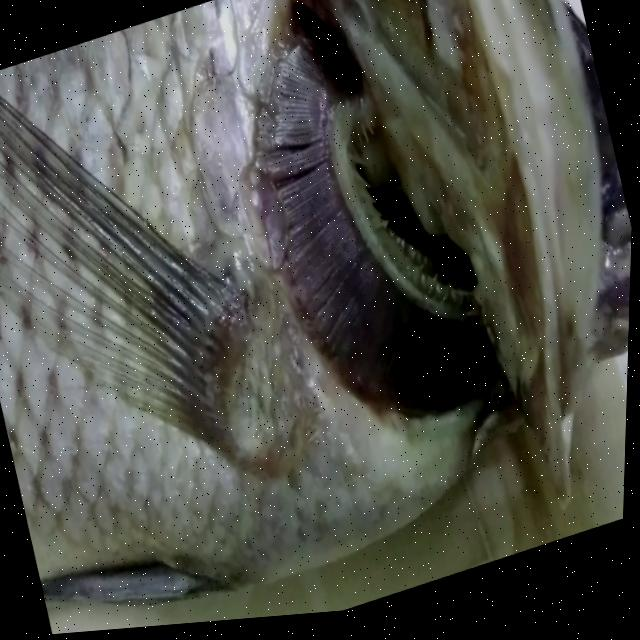Non-Fresh: (202, 0, 533, 510)
